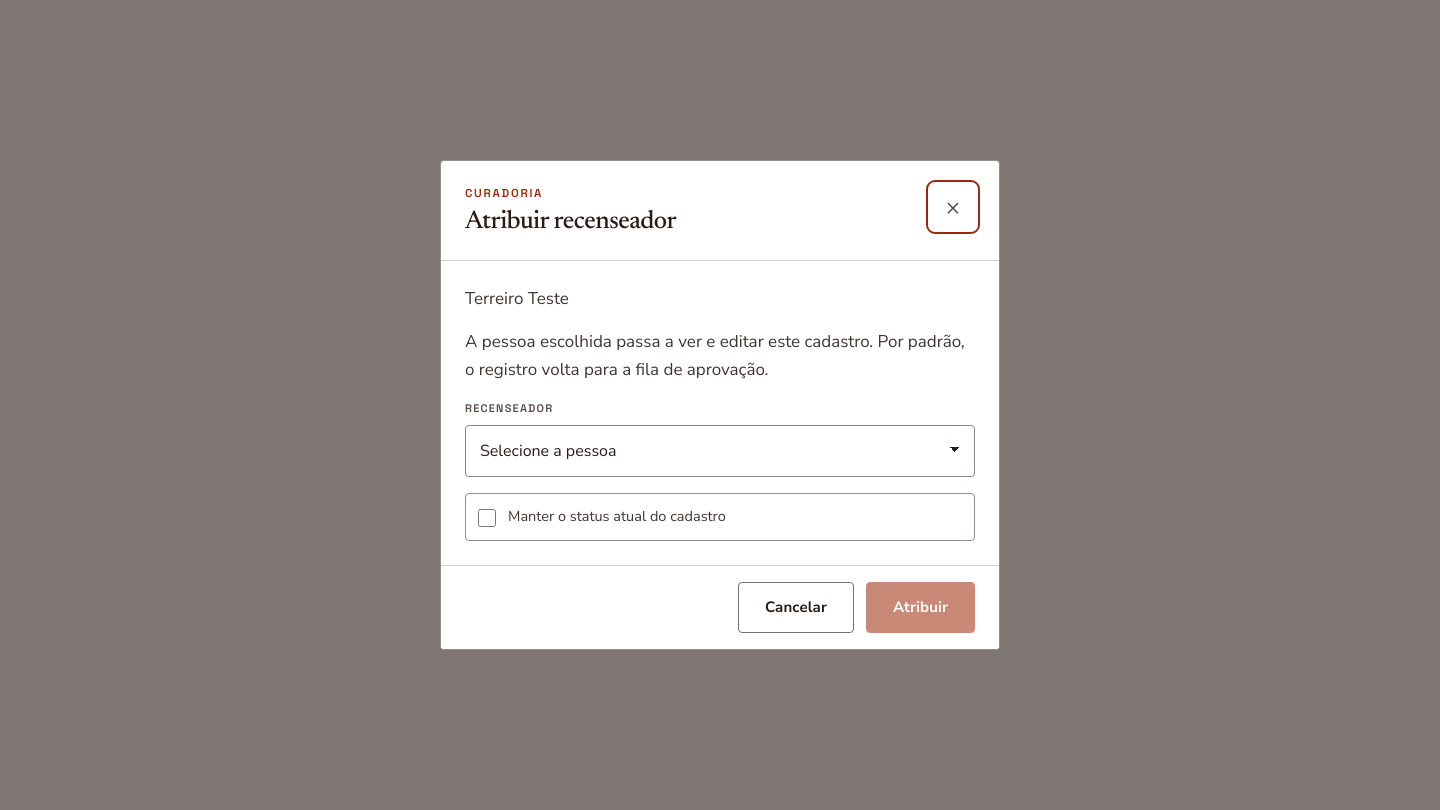
Test: AssignOwnerDialog › mostra o erro da API e mantém o diálogo aberto
The image size is (1440, 810).
Select "Ana Recenseadora" in the dropdown labelled "Recenseador": (720, 451) [465, 425, 975, 477]
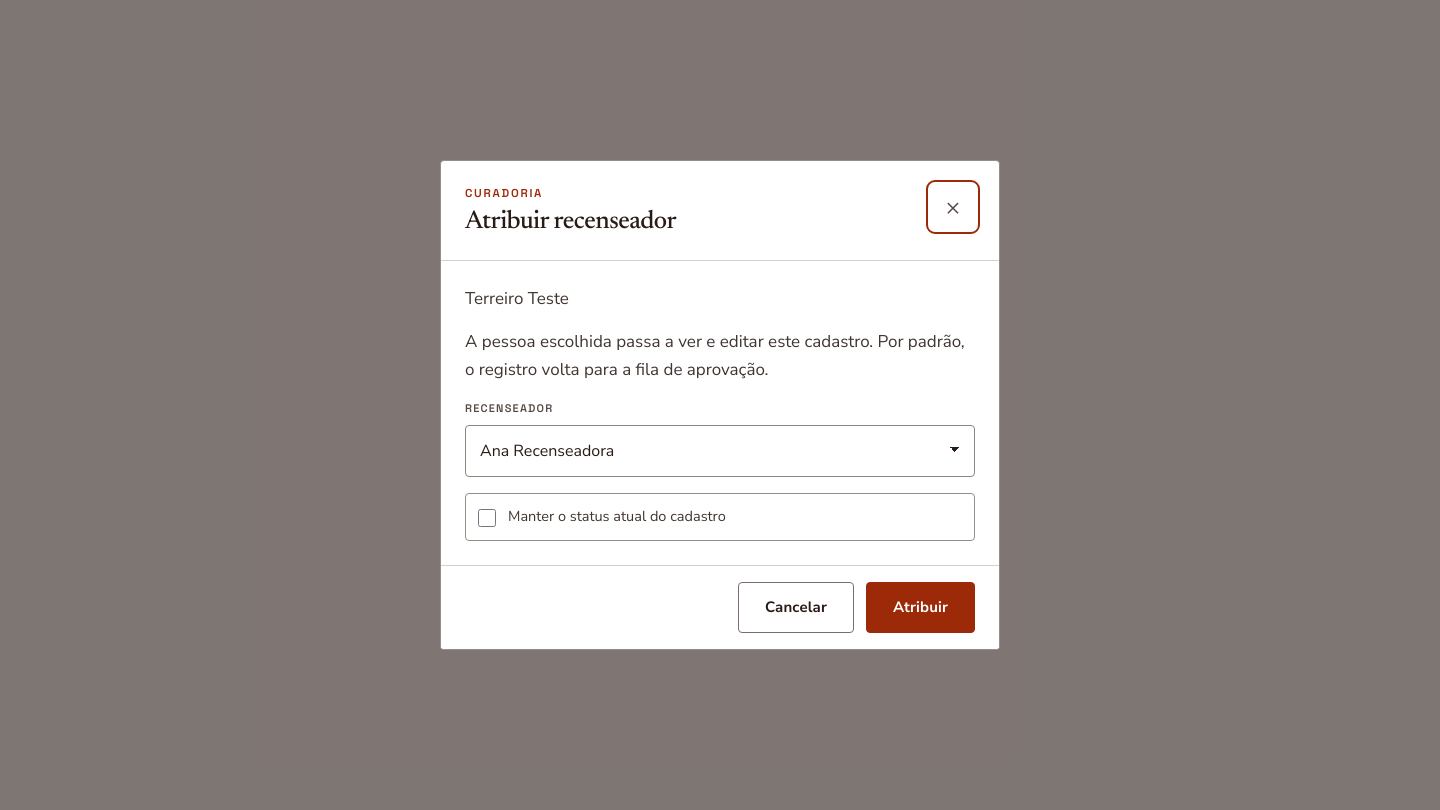
Click the button "Atribuir": (920, 608) [866, 582, 975, 633]
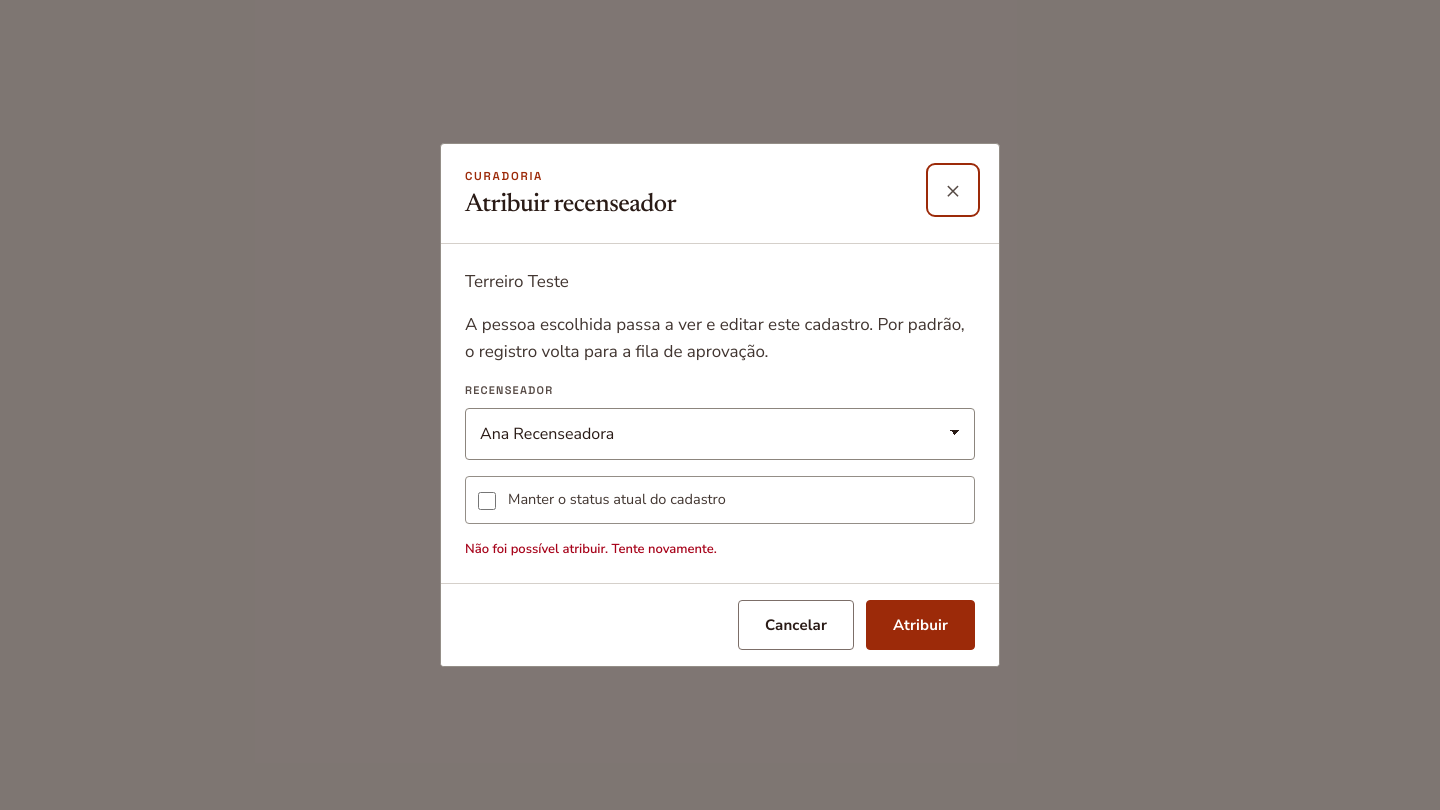
Result: the message shows "Não foi possível atribuir" at [465, 540, 717, 558]
